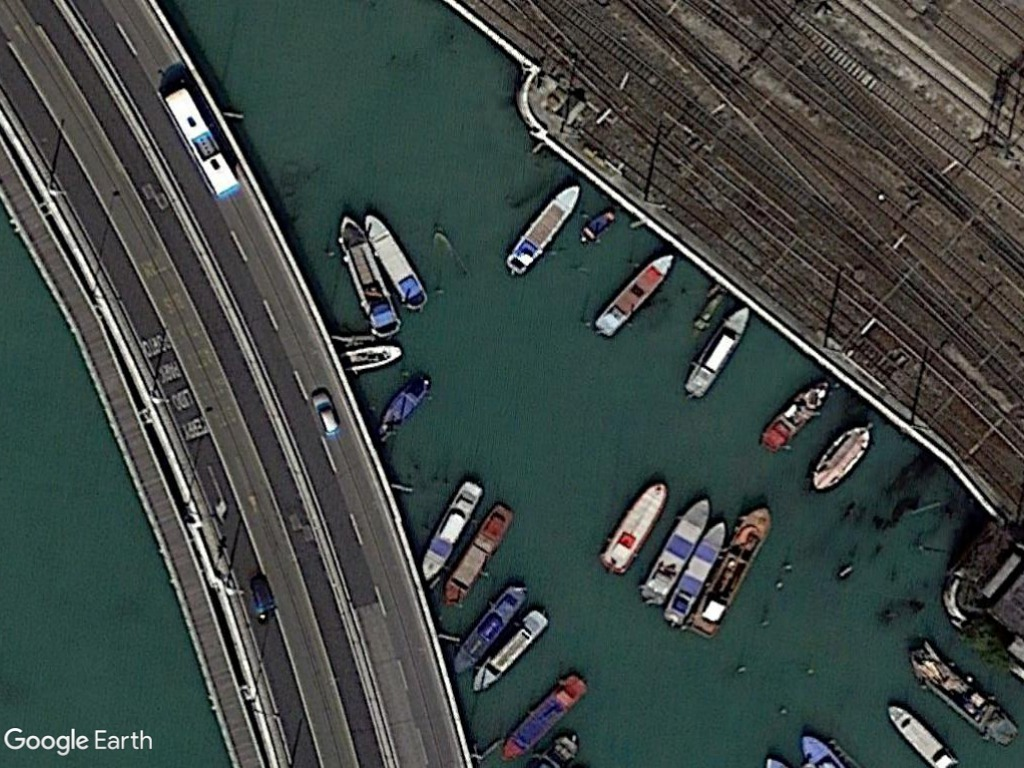boat: (687, 502, 778, 641), (908, 638, 1021, 749), (635, 492, 717, 607), (654, 512, 733, 626), (333, 212, 403, 338), (500, 670, 591, 764), (413, 476, 490, 586), (441, 500, 518, 607), (504, 182, 586, 280), (590, 249, 676, 342), (446, 582, 530, 676), (468, 606, 554, 696), (595, 480, 673, 577), (681, 305, 754, 404), (364, 209, 432, 314), (756, 379, 833, 456), (881, 698, 959, 768), (807, 423, 877, 494), (373, 370, 434, 444), (340, 340, 404, 374)
bus: (159, 85, 242, 202)
car: (308, 388, 346, 442), (246, 573, 281, 619)
